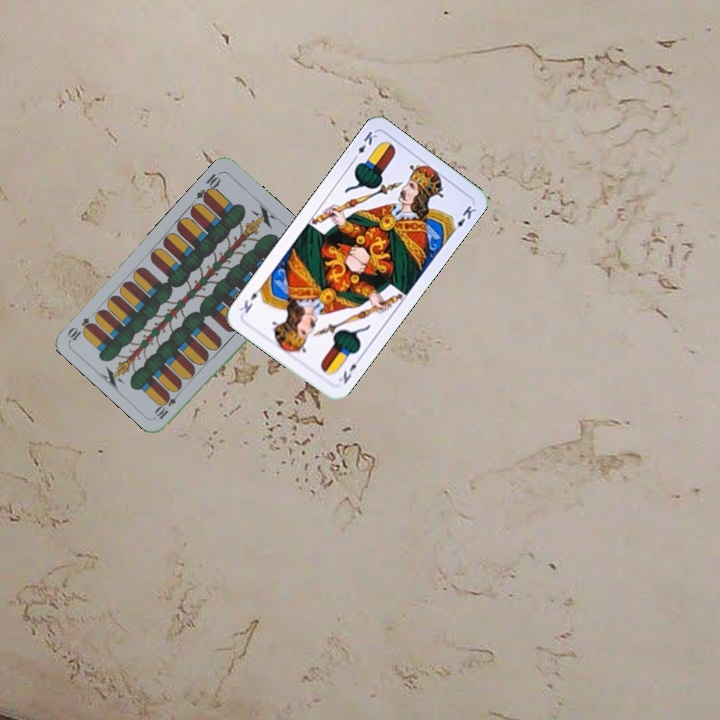E10: (151, 386, 184, 422), (192, 168, 224, 205)
EK: (349, 127, 379, 164), (334, 353, 364, 387)
